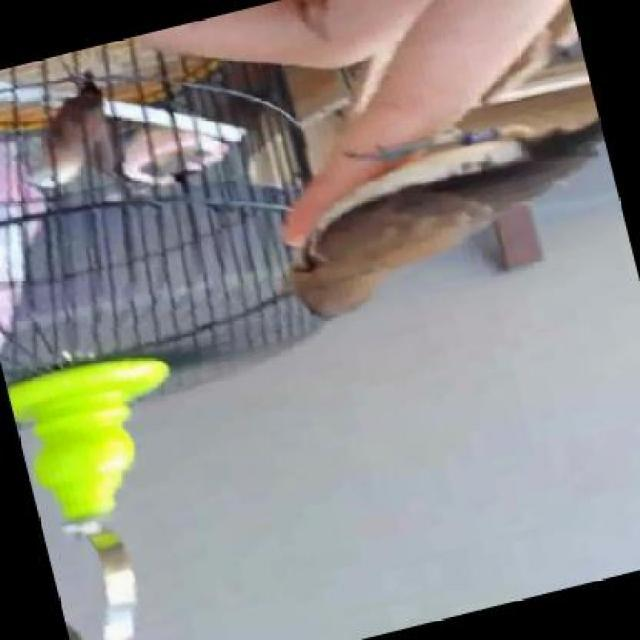Bird: (272, 110, 604, 333), (26, 71, 115, 216)
